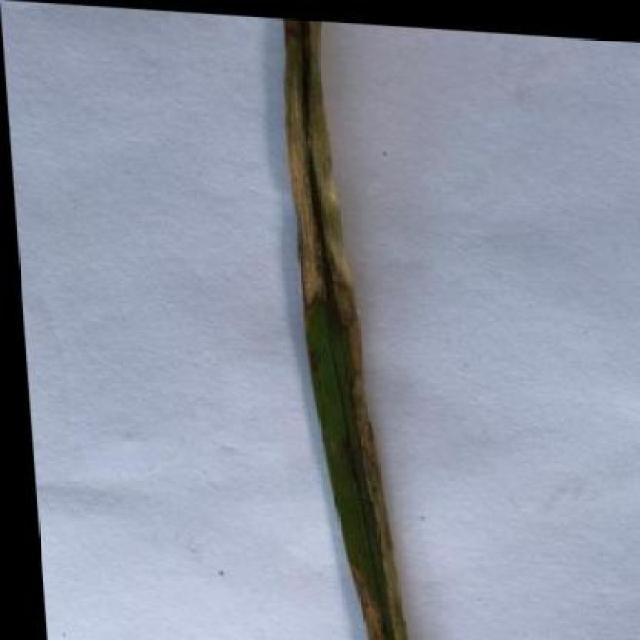Brown_Spot: (272, 14, 419, 640)
